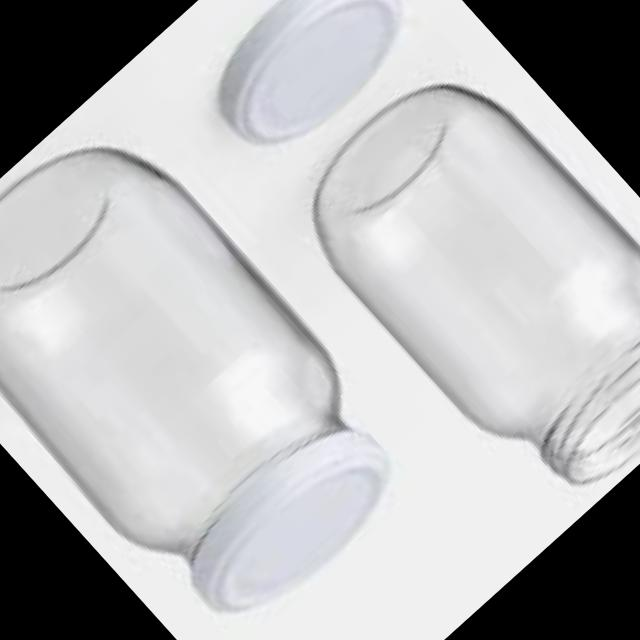ToplesKaca: (0, 98, 440, 640), (273, 40, 640, 528)
